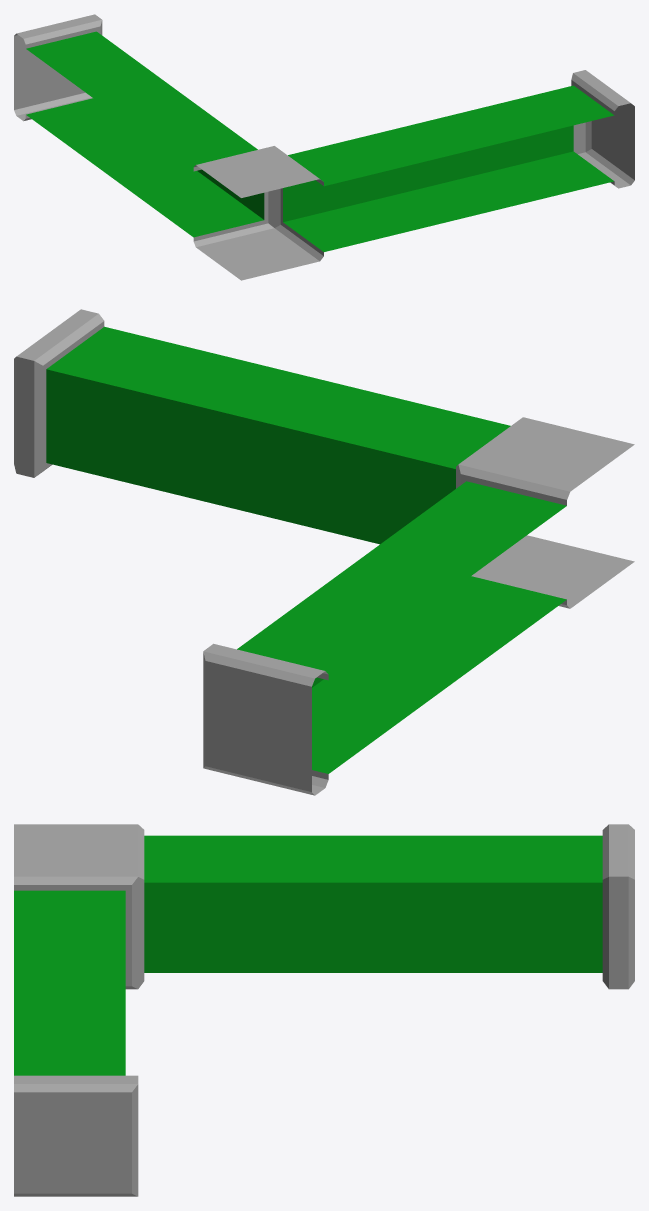
Rendered from Geo_Energy_Pipe_Eck.fbx.
The picture shows the model from 3 angles, top to bottom: view 1: azimuth 30°, elevation 25°; view 2: azimuth 150°, elevation 25°; view 3: azimuth 270°, elevation 25°; orthographic projection. The views are drawn at different scales.
Parts seen in each view (by area): view 1: Geo_Energy_Pipe_Eck; view 2: Geo_Energy_Pipe_Eck; view 3: Geo_Energy_Pipe_Eck.
Boxes of the visible parts, x1=… form: Geo_Energy_Pipe_Eck: x1=14, y1=14, x2=634, y2=280; Geo_Energy_Pipe_Eck: x1=14, y1=309, x2=634, y2=795; Geo_Energy_Pipe_Eck: x1=14, y1=824, x2=634, y2=1196.
Bounding box in the file's own units: 50 × 10 × 50.
